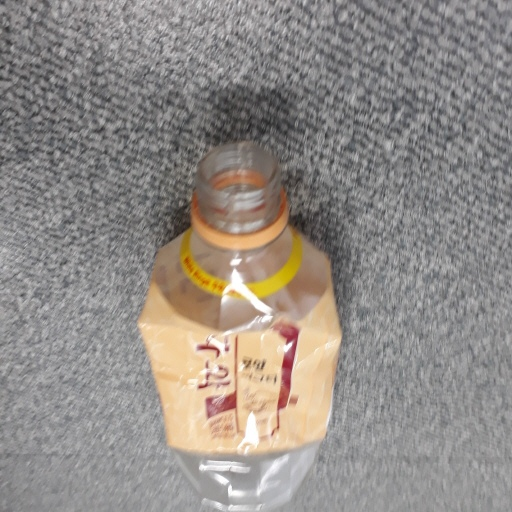Plastic_0: (137, 139, 343, 512)
